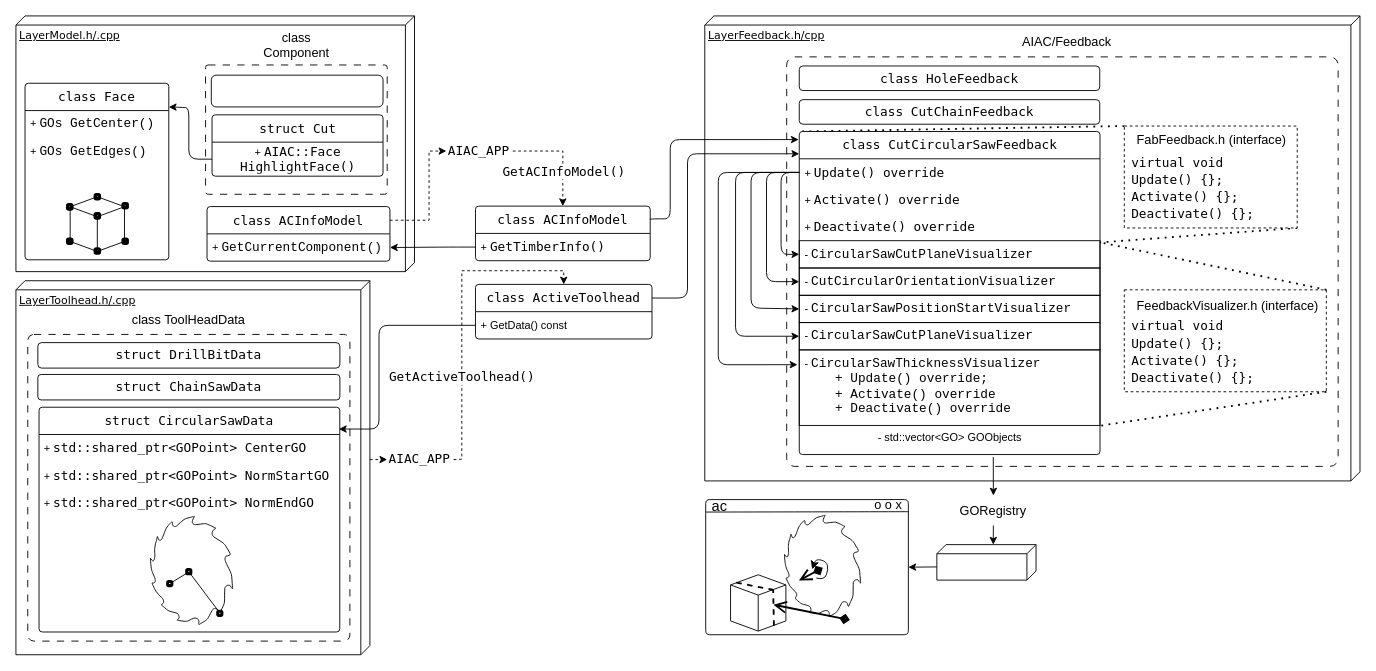
The diagram is 1376 pixels wide and 671 high, and some of its shapes have lost their labels. The centre of each missing label's shape, as x and y in pixels:
"+ GOs GetCorners()" belongs at point 96,223.
"class Hole" belongs at point 296,90.
"Render.h" belongs at point 986,562.
